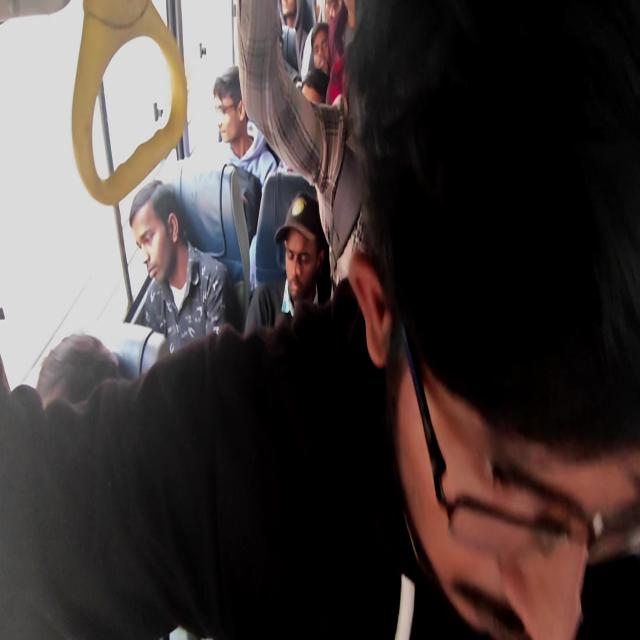person: (381, 70, 621, 640), (45, 347, 166, 494), (127, 186, 207, 266), (276, 214, 324, 282), (216, 70, 254, 154), (314, 37, 340, 92), (277, 0, 309, 40), (324, 0, 341, 31)
